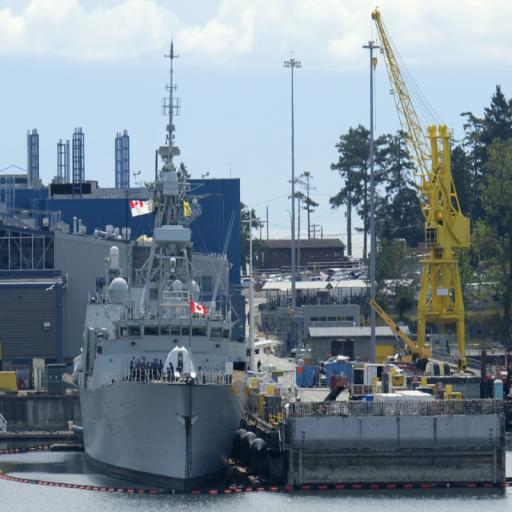Fragata: (67, 24, 256, 494)
